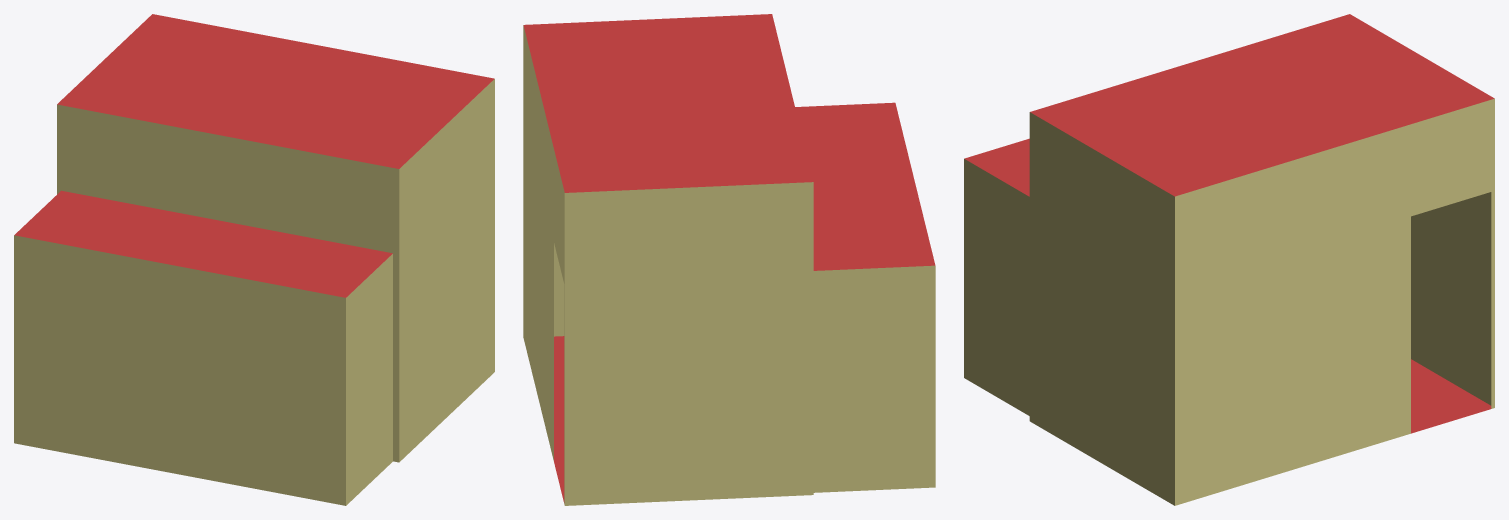
3 renders of one model, left to right at view 1: azimuth 30°, elevation 25°; view 2: azimuth 150°, elevation 25°; view 3: azimuth 270°, elevation 25°, orthographic. The views are drawn at different scales.
Bounding box in the file's own units: 17.92 × 18.03 × 11.59.
